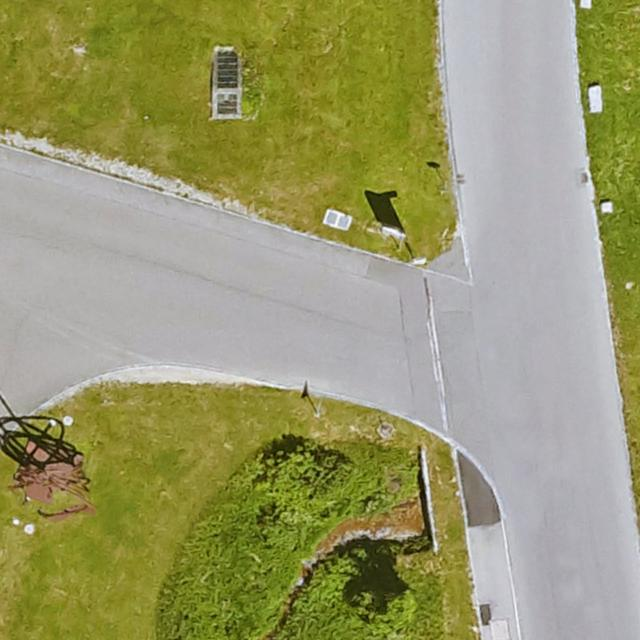tree: (353, 585, 415, 634)
